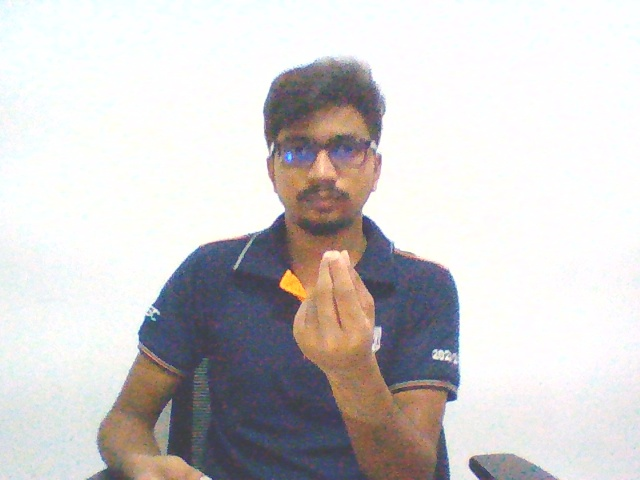dog: (280, 243, 388, 386)
